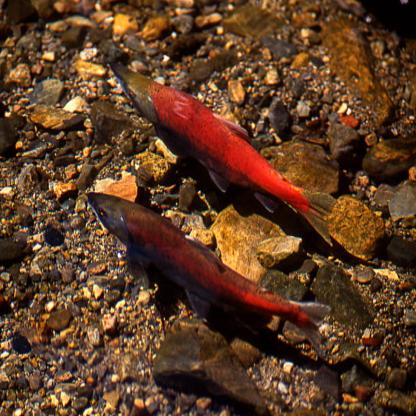sockeye: (114, 51, 338, 220), (84, 191, 322, 340)
